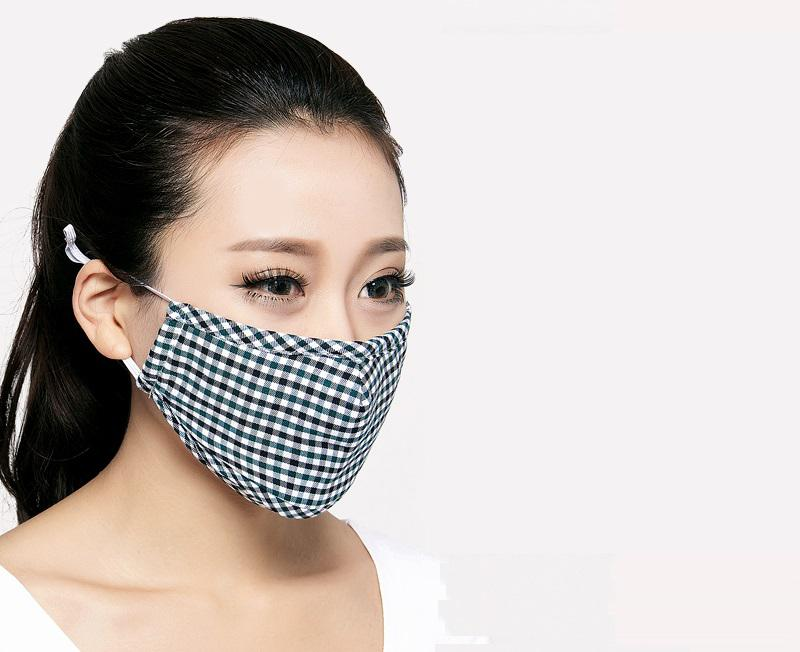OK: (133, 223, 415, 505)
